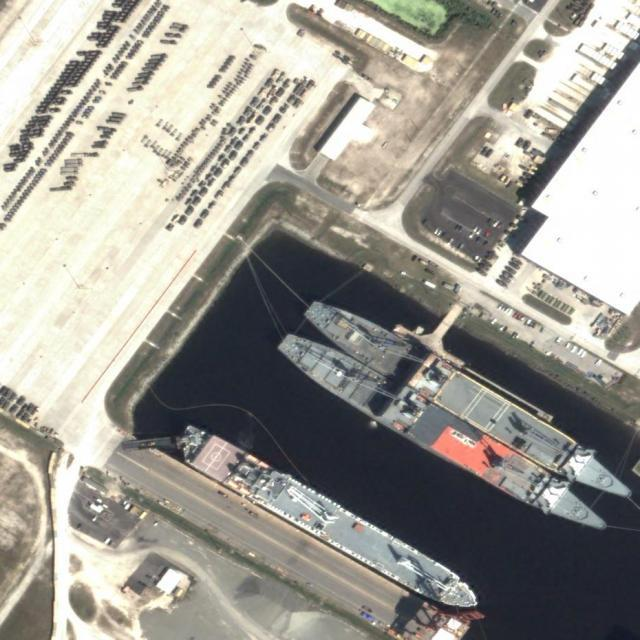Cargo: (269, 318, 617, 549), (298, 289, 638, 511), (167, 418, 488, 622)
Dock: (394, 324, 555, 423)
